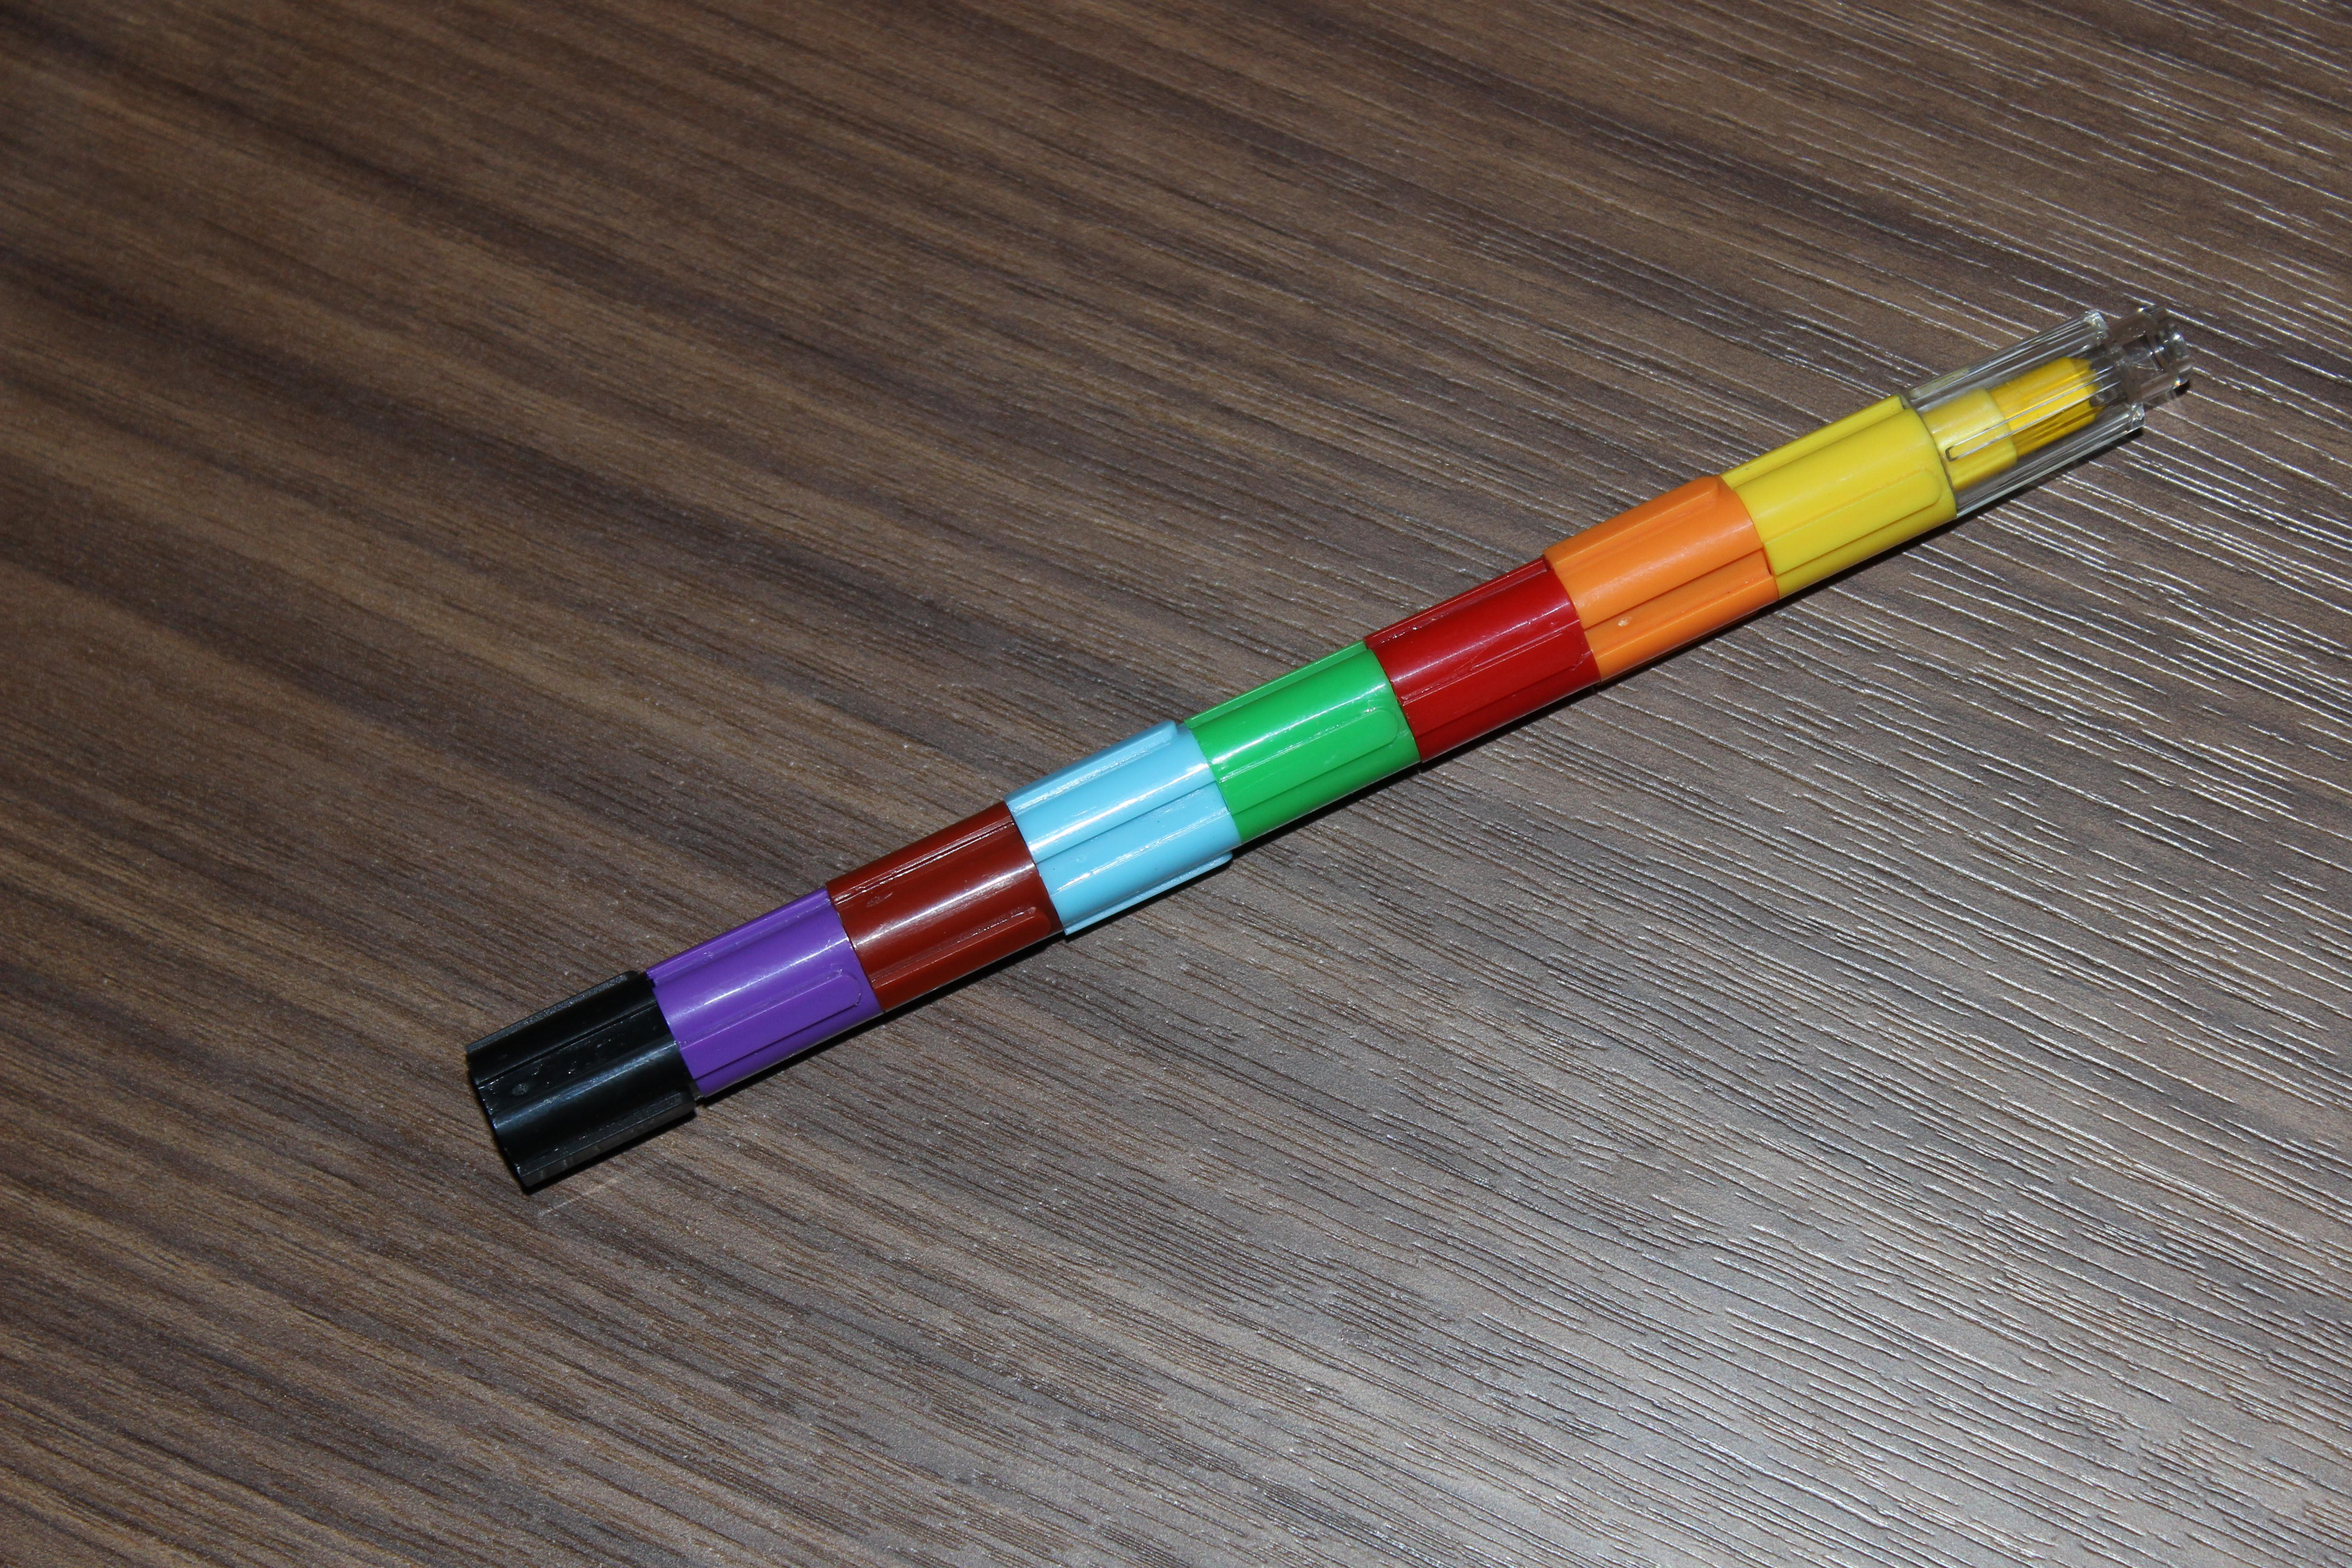rainbowPens: (438, 250, 2222, 1230)
